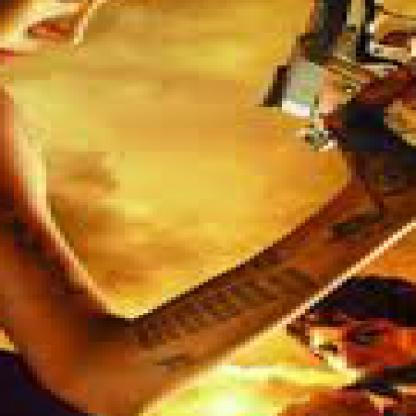gun: (0, 65, 167, 164)
